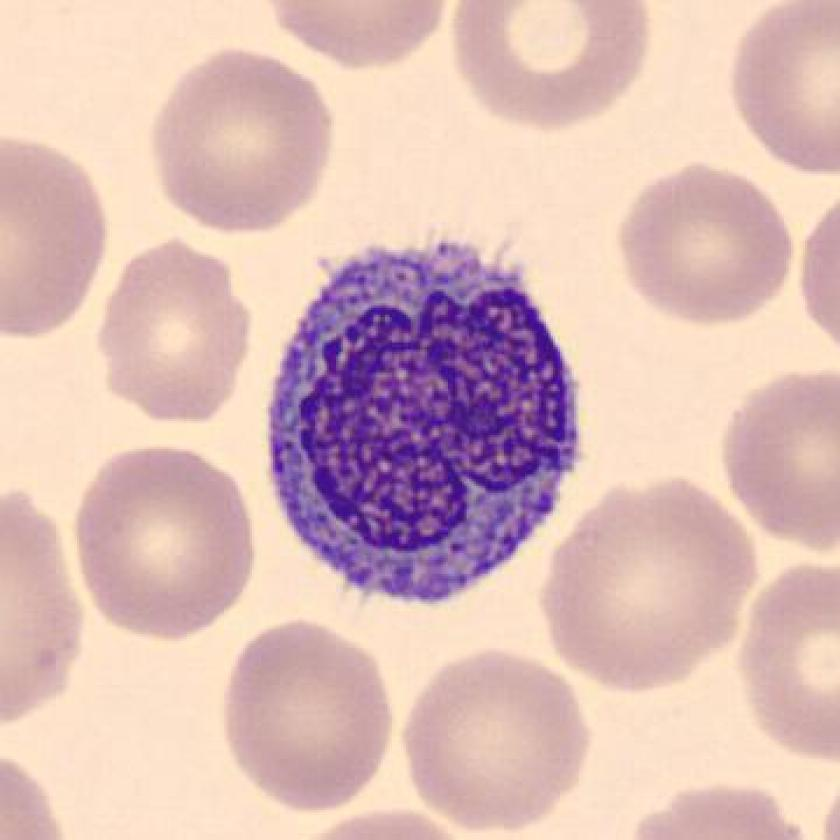monocyte: (246, 228, 603, 617)
